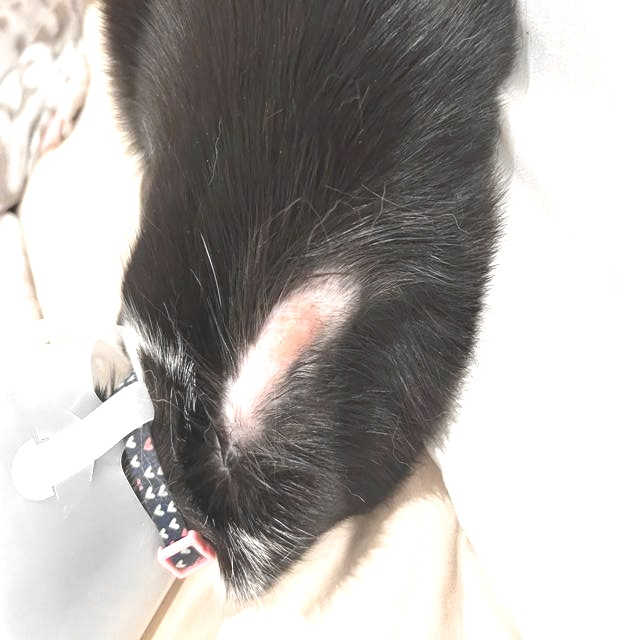hairloss: (215, 286, 351, 444)
